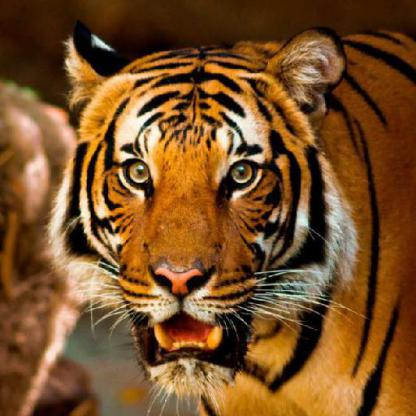tiger: (61, 39, 334, 372)
